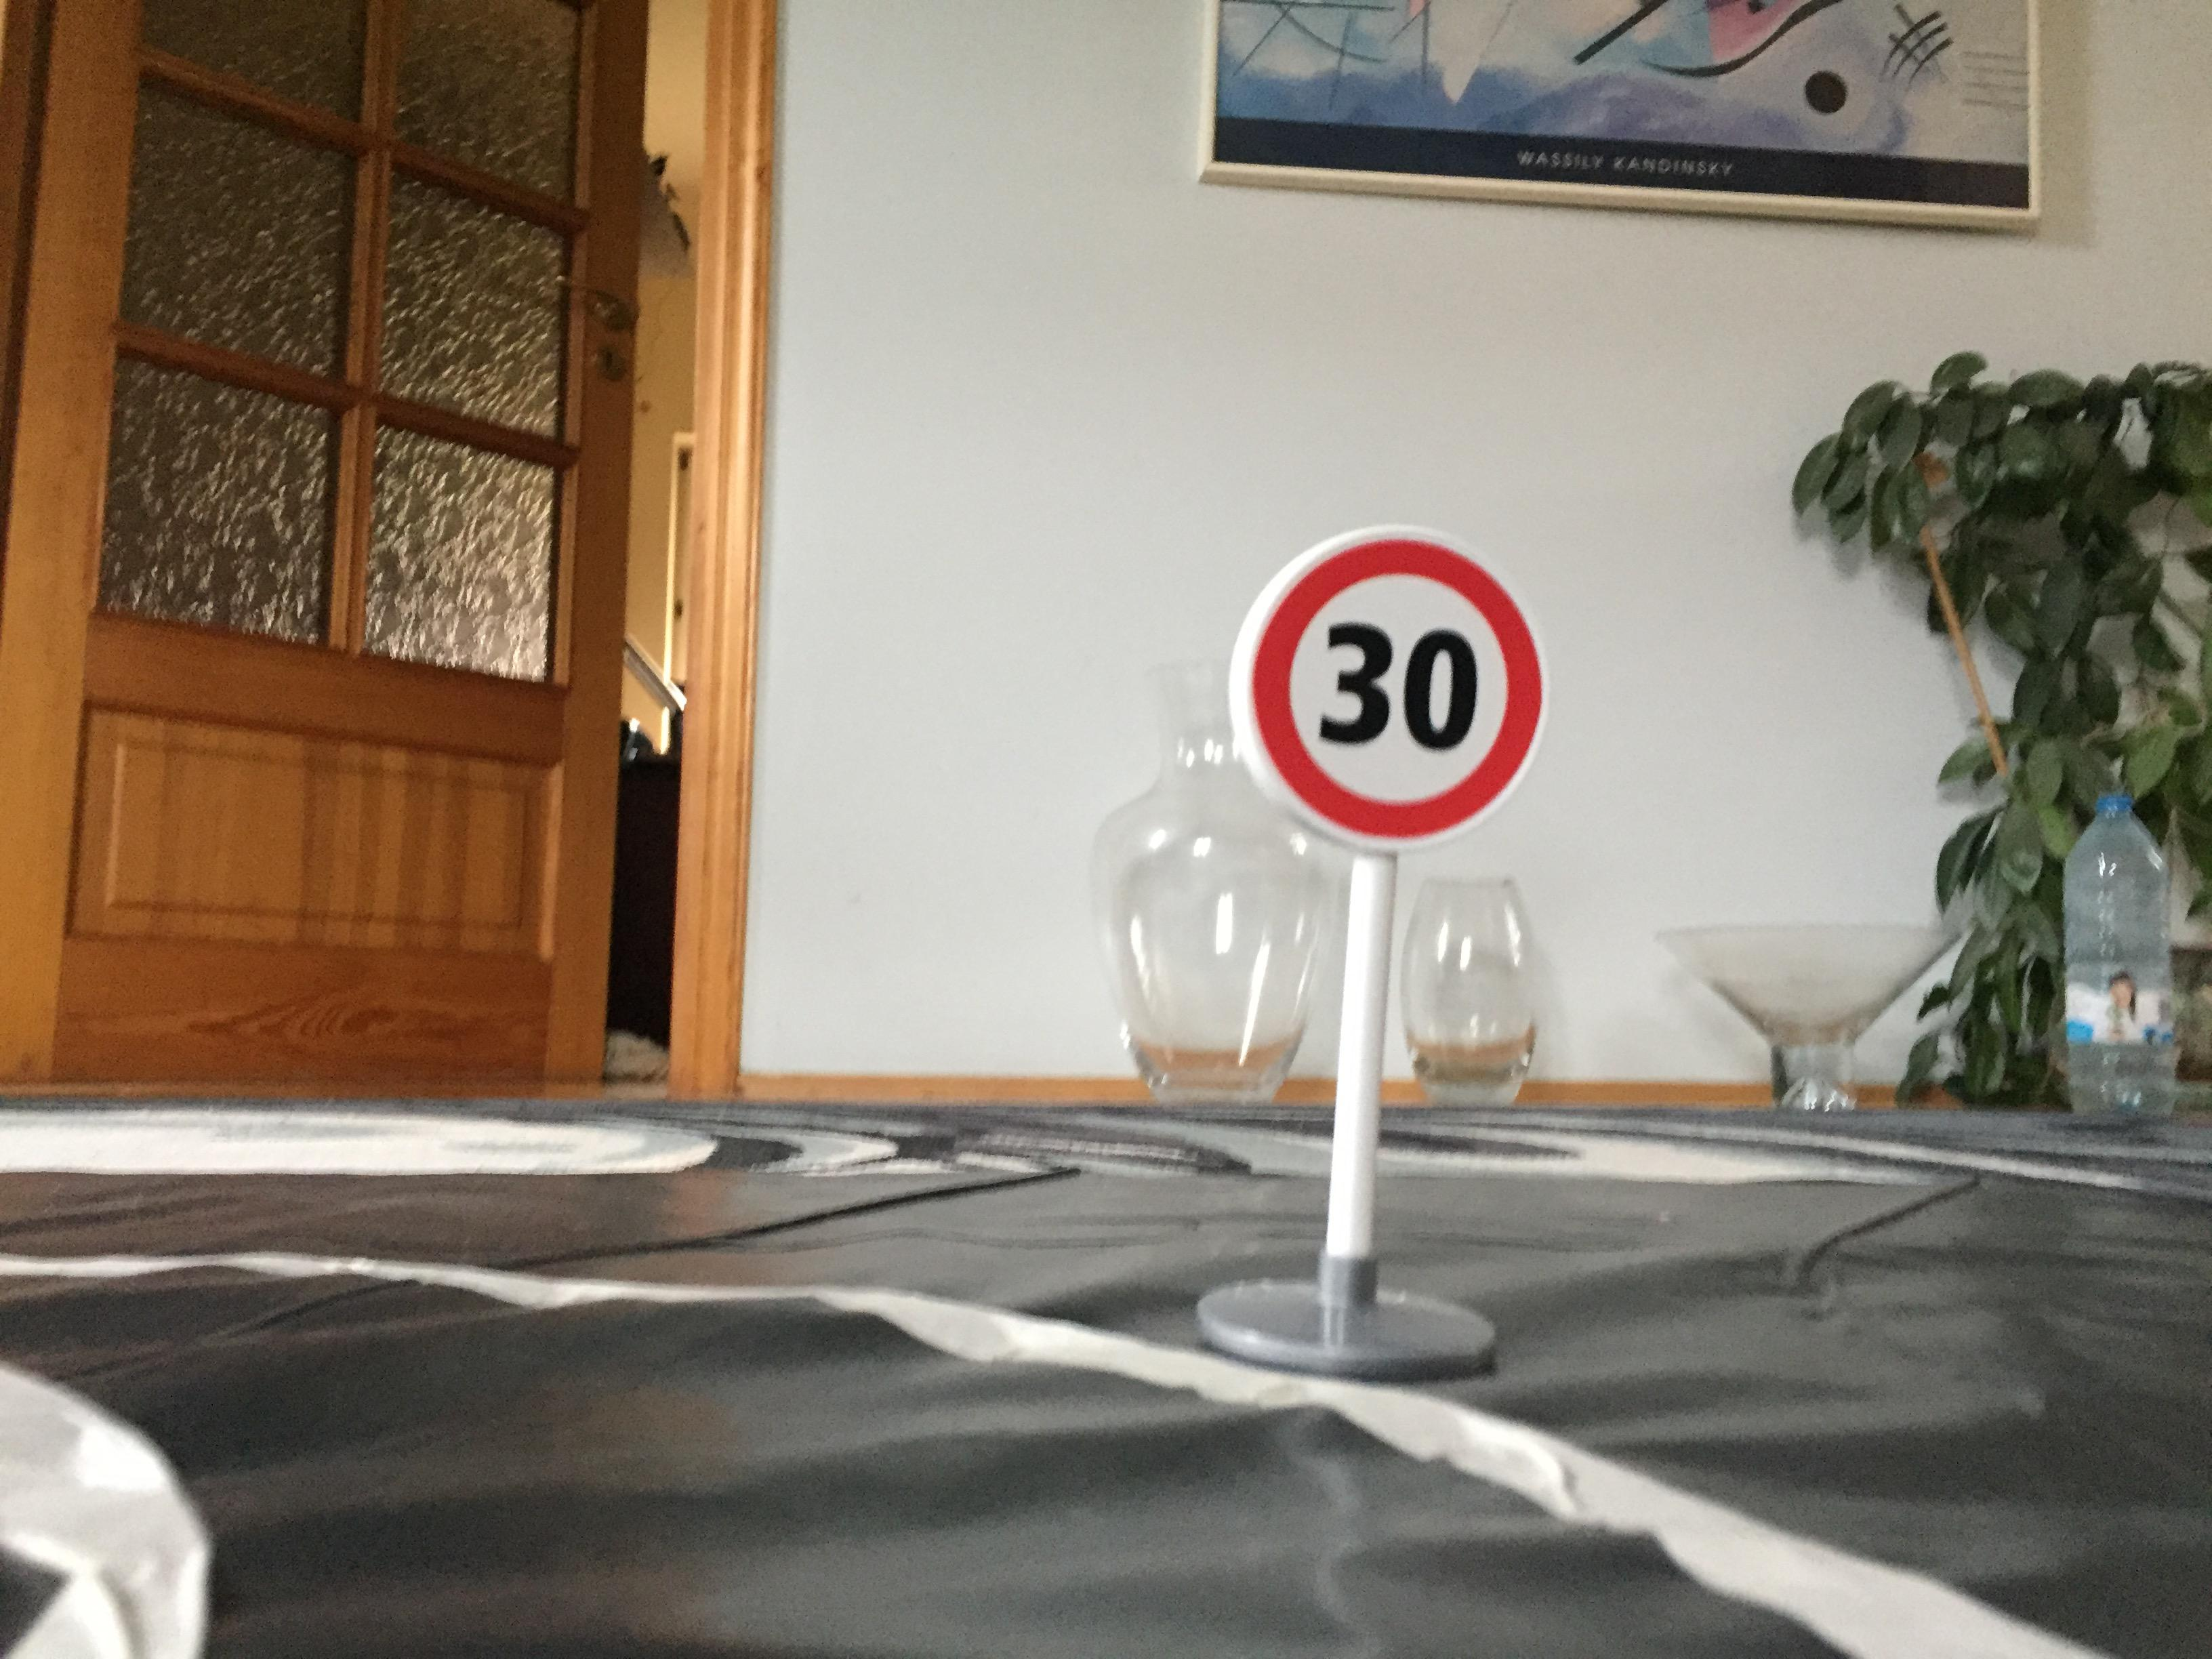speed: (1202, 512, 1571, 870)
